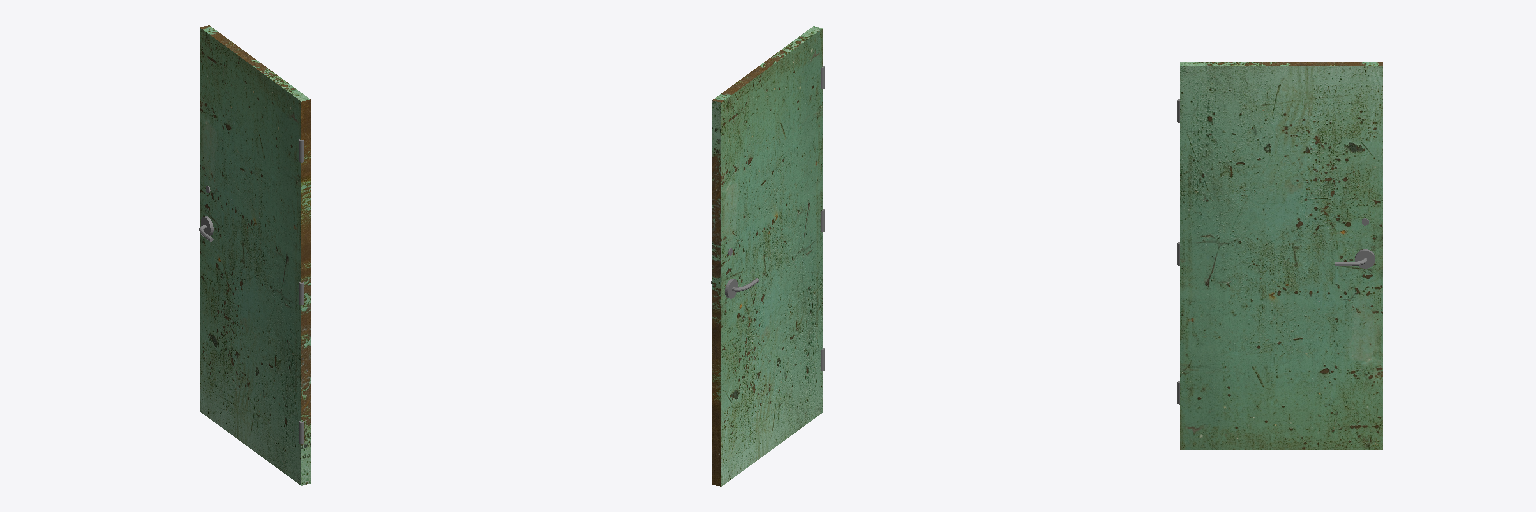
The picture shows the model from 3 angles: view 1: azimuth 30°, elevation 25°; view 2: azimuth 150°, elevation 25°; view 3: azimuth 270°, elevation 25°; orthographic projection.
Visible parts, largest first — view 1: vrata_Cube.001; view 2: vrata_Cube.001; view 3: vrata_Cube.001.
Boxes of the visible parts, box(x1,y1,x2,y2) form: vrata_Cube.001: box(199, 25, 310, 485); vrata_Cube.001: box(711, 26, 824, 486); vrata_Cube.001: box(1177, 62, 1382, 449).
Bounding box in the file's own units: 0.2001 × 1.97 × 0.9532.
Materials: 2 (2 with a texture image).